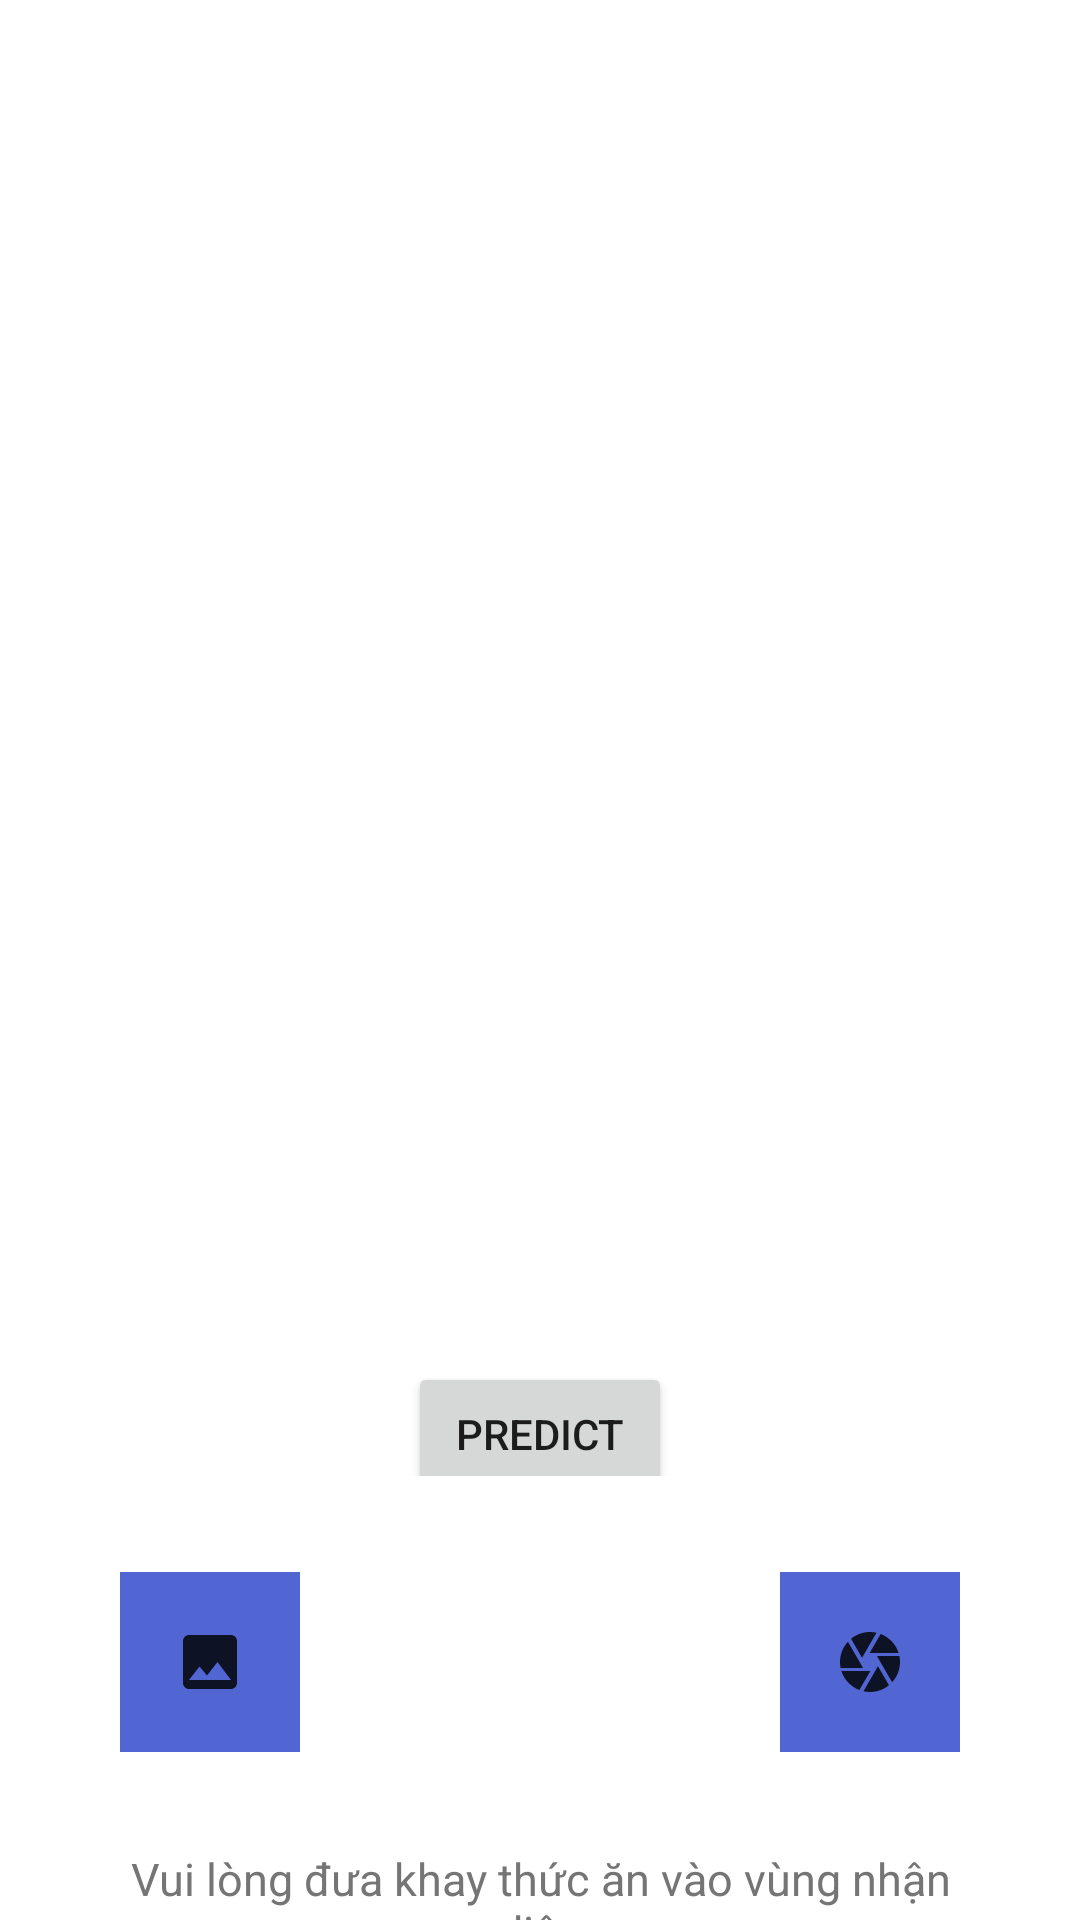

Locate icon controls on the screen. Image size 1080x1920, boxes as (x1, y1, x2, y2).
camera: (780, 1572, 960, 1752)
